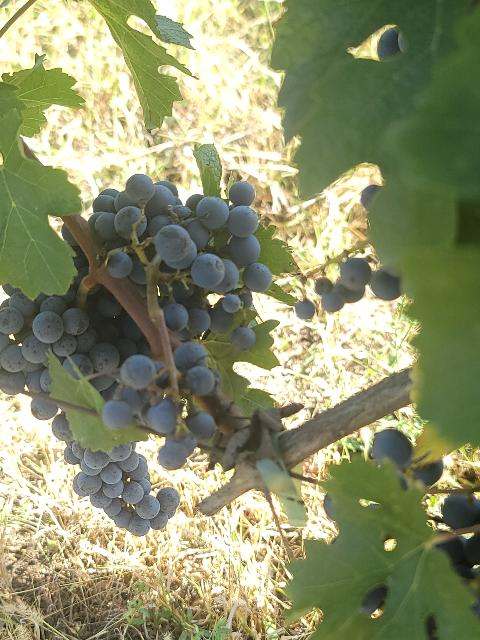grapes: (0, 289, 179, 536), (89, 174, 275, 340), (101, 342, 216, 470)
